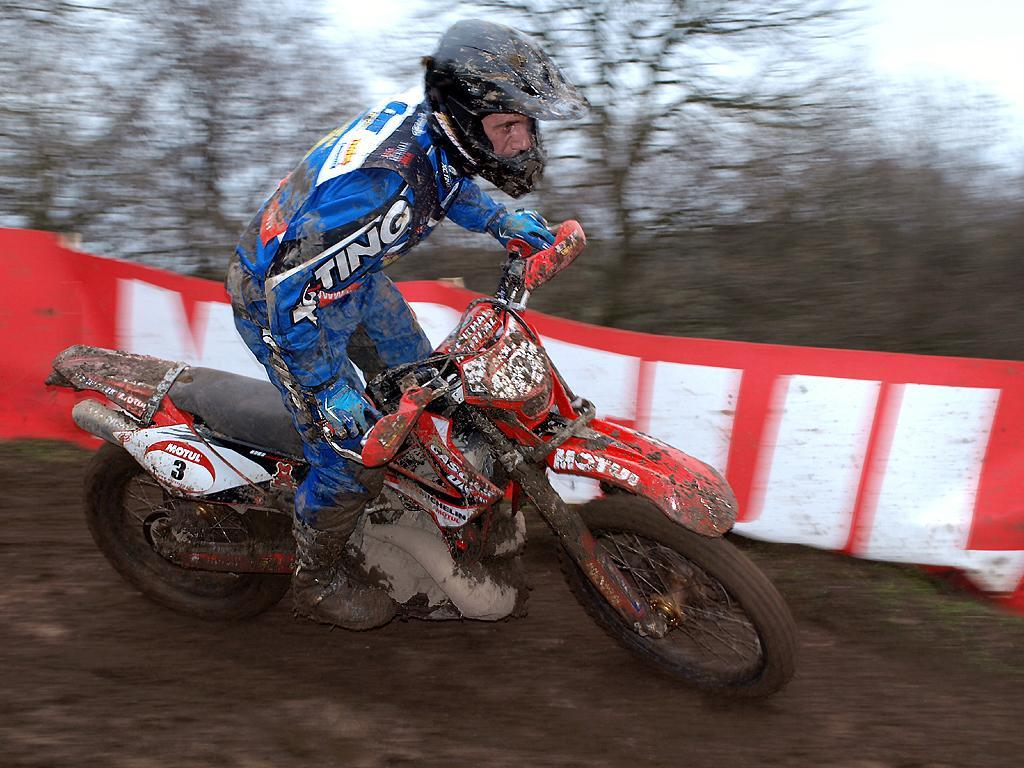helmet: (423, 16, 590, 200)
